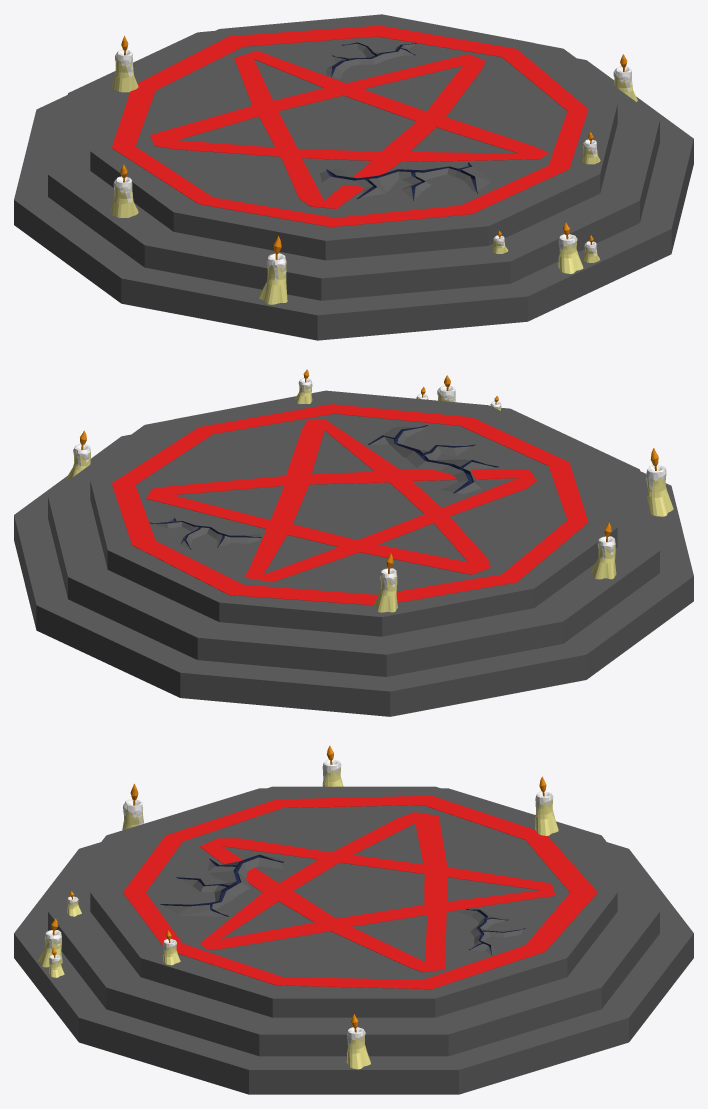
Rendered from Altar.fbx.
3 views of the same model, one above another, from view 1: azimuth 30°, elevation 25°; view 2: azimuth 150°, elevation 25°; view 3: azimuth 270°, elevation 25° (orthographic). The views are drawn at different scales.
Visible parts, largest first — view 1: Altar; view 2: Altar; view 3: Altar.
Boxes of the visible parts, box(x1,y1,x2,y2) form: Altar: box(14, 14, 693, 340); Altar: box(14, 369, 693, 716); Altar: box(14, 745, 693, 1094).
Size of the model in its own units: 1204 by 1266 by 243.
